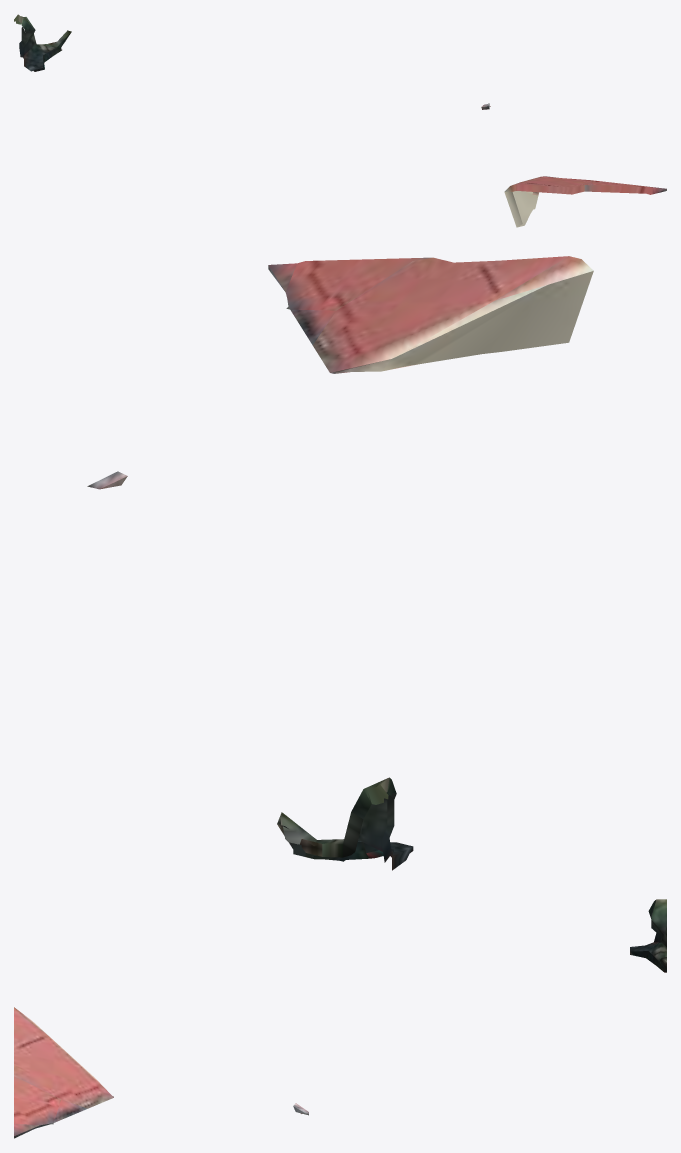
3 views of the same model, one above another, from view 1: azimuth 30°, elevation 25°; view 2: azimuth 150°, elevation 25°; view 3: azimuth 270°, elevation 25° (orthographic). The views are drawn at different scales.
Visible parts, largest first — view 1: 30436272704370624707_0; view 2: 30436272704370624707_0; view 3: 30436272704370624707_0.
Part boxes in pixels (box(x1,y1,x2,y2)): 30436272704370624707_0: box(14, 14, 666, 227); 30436272704370624707_0: box(87, 256, 593, 870); 30436272704370624707_0: box(14, 899, 666, 1138).
Bounding box in the file's own units: 26.55 × 3.39 × 38.25.
Materials: 1 (1 with a texture image).
